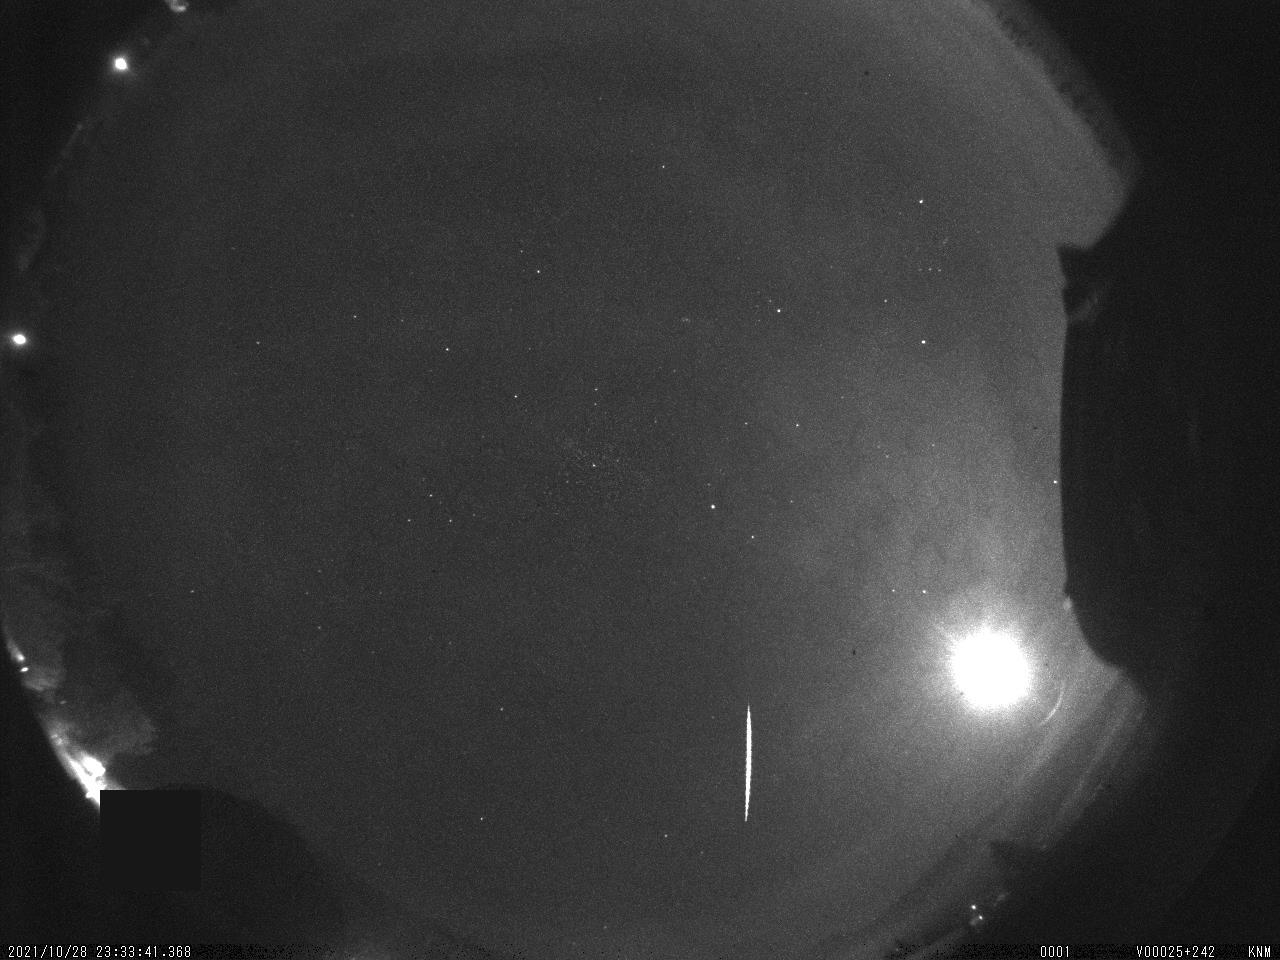meteor: (720, 688, 772, 840)
